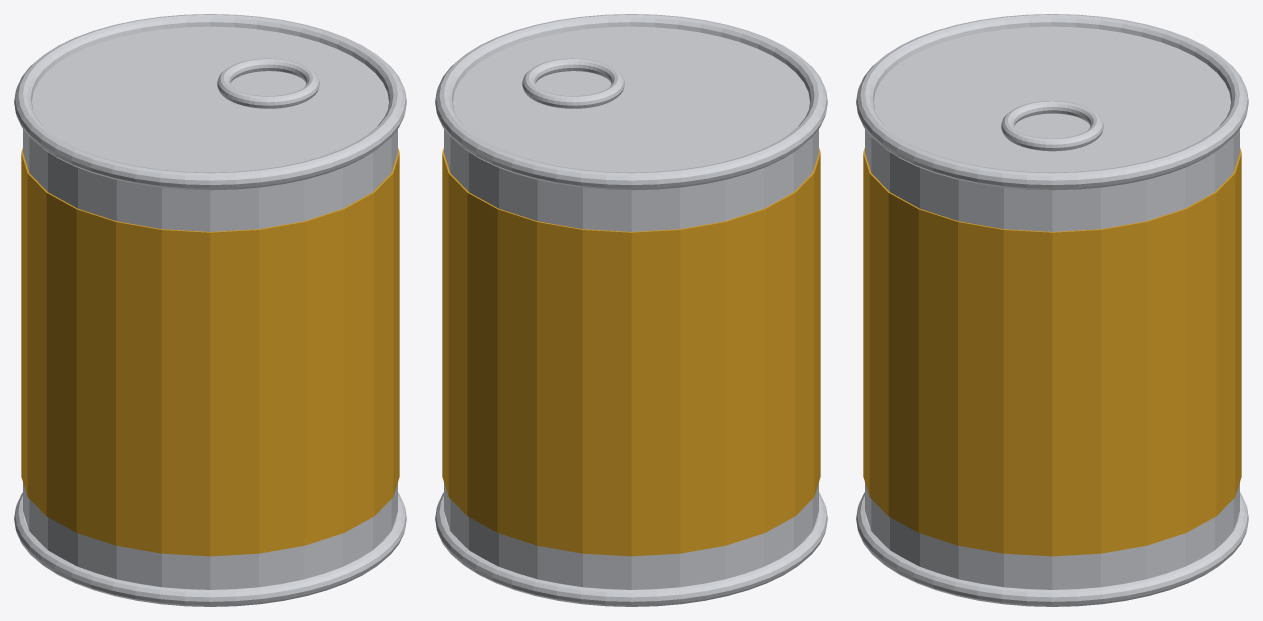
Rendered from Grocery_Canned_Food.obj.
3 renders of one model, left to right at view 1: azimuth 30°, elevation 25°; view 2: azimuth 150°, elevation 25°; view 3: azimuth 270°, elevation 25°, orthographic.
Visible parts, largest first — view 1: Can_Paper_Label, Can_Steel_Body, Can_Rim_Top, Can_Rim_Bottom, Can_Pull_Ring; view 2: Can_Paper_Label, Can_Steel_Body, Can_Rim_Top, Can_Rim_Bottom, Can_Pull_Ring; view 3: Can_Paper_Label, Can_Steel_Body, Can_Rim_Top, Can_Rim_Bottom, Can_Pull_Ring.
Part boxes in pixels (<box>): Can_Paper_Label: <box>21,148,399,556</box>; Can_Steel_Body: <box>23,26,397,589</box>; Can_Rim_Top: <box>14,14,406,190</box>; Can_Rim_Bottom: <box>14,492,406,606</box>; Can_Pull_Ring: <box>217,58,319,108</box>; Can_Paper_Label: <box>442,148,820,556</box>; Can_Steel_Body: <box>444,26,818,589</box>; Can_Rim_Top: <box>435,14,827,190</box>; Can_Rim_Bottom: <box>435,492,827,606</box>; Can_Pull_Ring: <box>522,58,624,108</box>; Can_Paper_Label: <box>863,148,1241,556</box>; Can_Steel_Body: <box>865,26,1239,589</box>; Can_Rim_Top: <box>856,14,1248,190</box>; Can_Rim_Bottom: <box>856,492,1248,606</box>; Can_Pull_Ring: <box>1001,101,1103,151</box>.
Size of the model in its own units: 0.088 by 0.1075 by 0.088.
